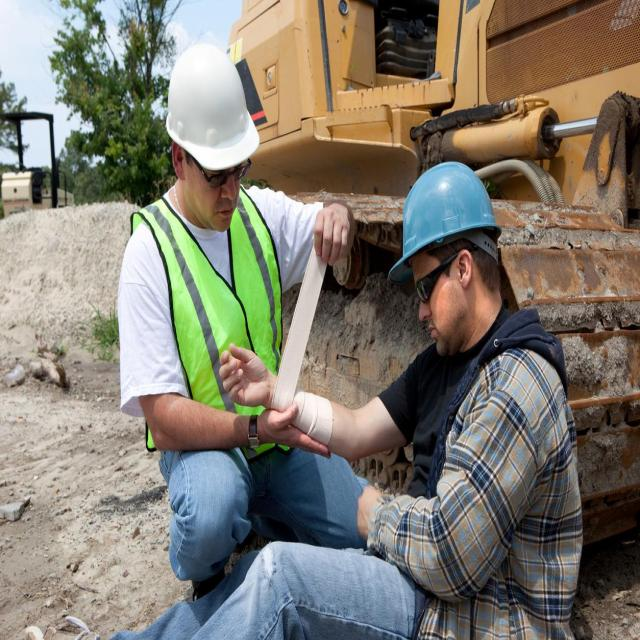Reflective-Jacket: (132, 184, 290, 456)
Safety-Helmet: (160, 37, 262, 171), (395, 156, 503, 268)
